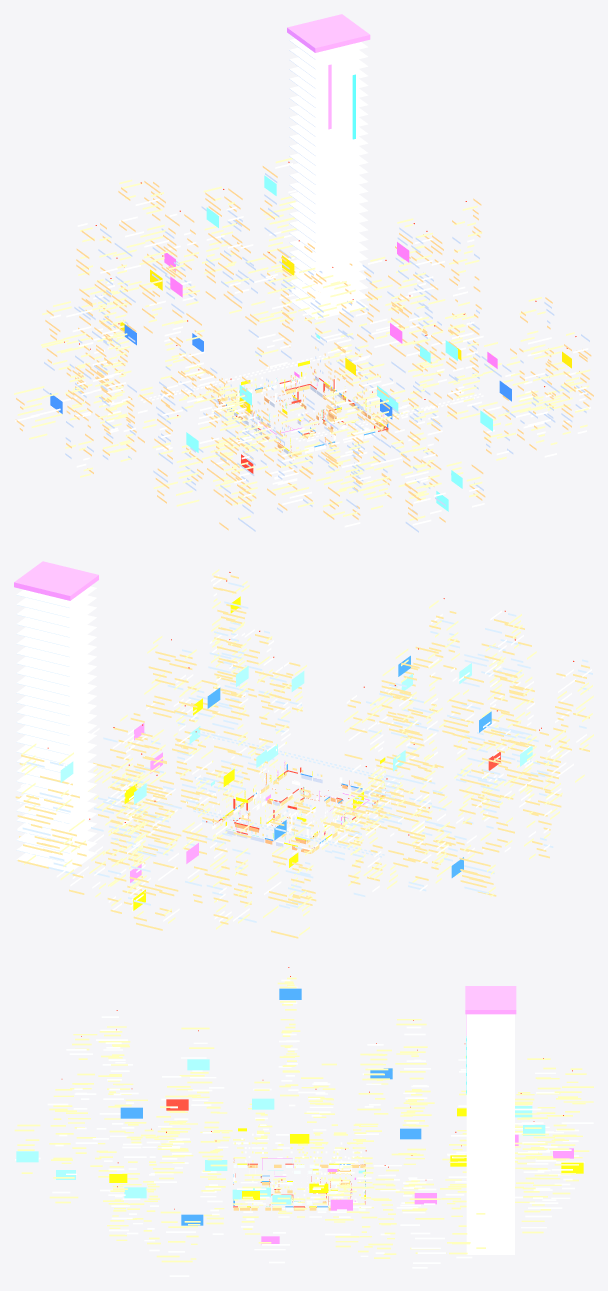
Rendered from kb-neon.glb.
3 views of the same model, one above another, from view 1: azimuth 30°, elevation 25°; view 2: azimuth 150°, elevation 25°; view 3: azimuth 270°, elevation 25° (orthographic). The views are drawn at different scales.
Parts seen in each view (by area): view 1: gj; view 2: gj; view 3: gj.
Boxes of the visible parts, x1=… form: gj: x1=14, y1=14, x2=593, y2=532; gj: x1=14, y1=561, x2=593, y2=938; gj: x1=14, y1=967, x2=593, y2=1276.
Size of the model in its own units: 294 by 173 by 364.
